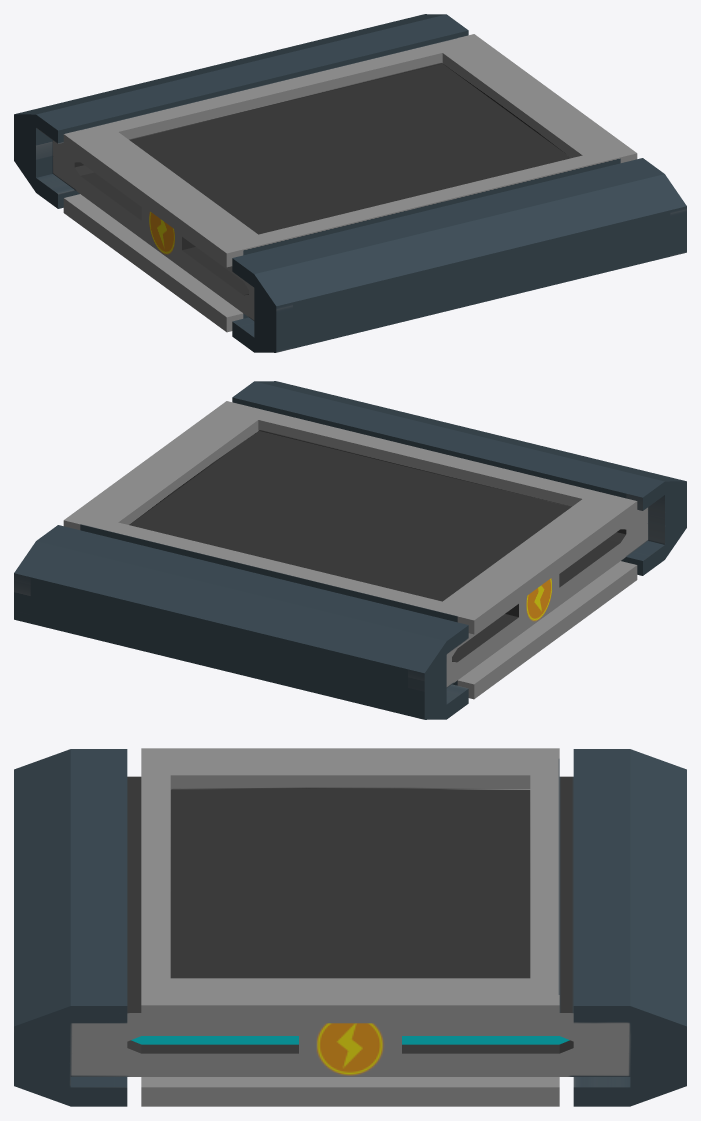
Rendered from Lift.fbx.
3 views of the same model, one above another, from view 1: azimuth 30°, elevation 25°; view 2: azimuth 150°, elevation 25°; view 3: azimuth 270°, elevation 25° (orthographic). The views are drawn at different scales.
Visible parts, largest first — view 1: pCube1; view 2: pCube1; view 3: pCube1.
Boxes of the visible parts, box(x1,y1,x2,y2) form: pCube1: box(14, 14, 686, 352); pCube1: box(14, 381, 686, 719); pCube1: box(14, 748, 686, 1106).
Bounding box in the file's own units: 109 × 19.97 × 120.
1 material, 1 textured.
